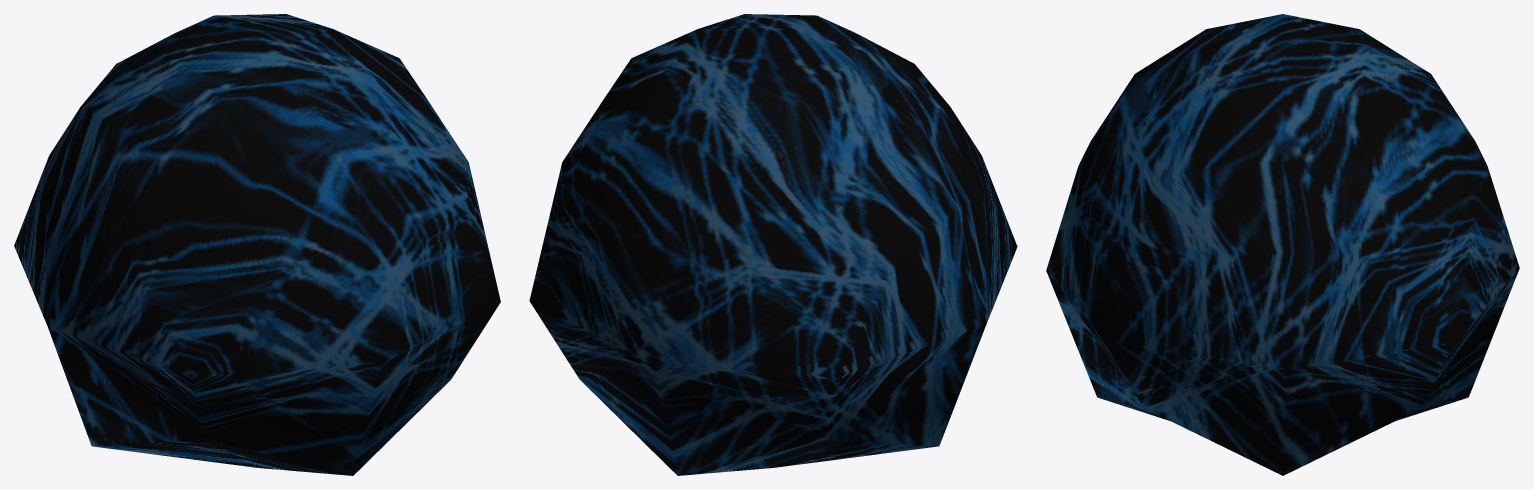
File: cef_webber_grenade_l0.fbx
3 renders of one model, left to right at view 1: azimuth 30°, elevation 25°; view 2: azimuth 150°, elevation 25°; view 3: azimuth 270°, elevation 25°, orthographic. The views are drawn at different scales.
Parts seen in each view (by area): view 1: mesh_node; view 2: mesh_node; view 3: mesh_node.
Part boxes in pixels (<box>): mesh_node: <box>14,14,500,475</box>; mesh_node: <box>529,14,1017,475</box>; mesh_node: <box>1046,14,1519,475</box>.
Size of the model in its own units: 0.956 by 0.9382 by 0.956.
